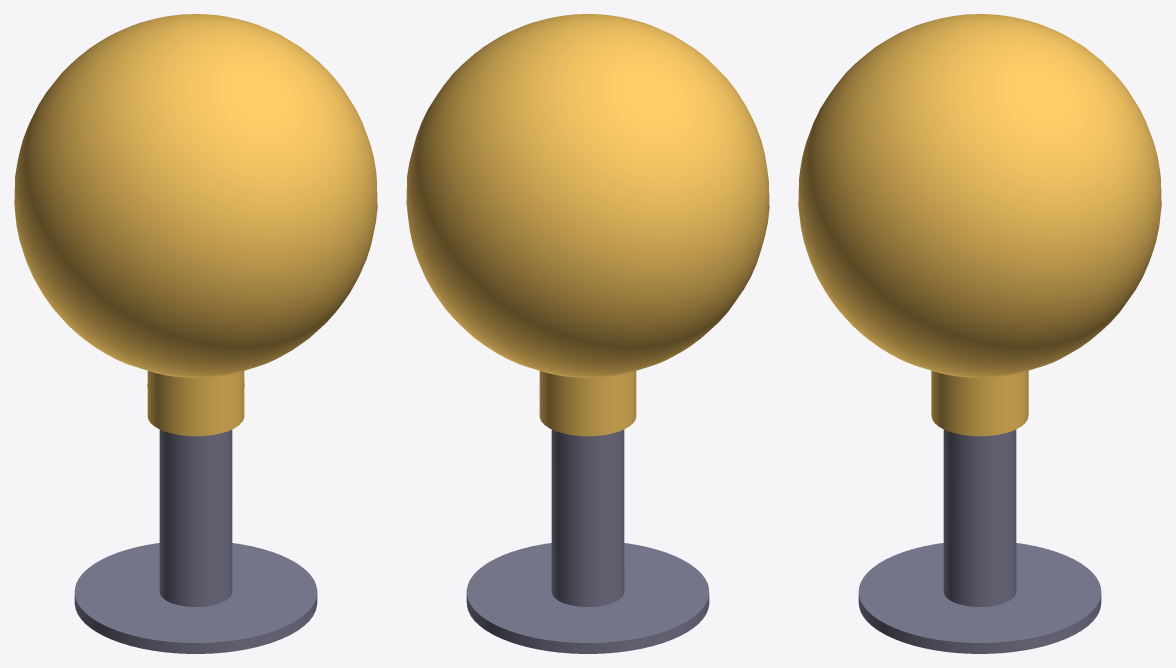
The model's file is aquavision_balloon.dae.
The picture shows the model from 3 angles, left to right: view 1: azimuth 30°, elevation 25°; view 2: azimuth 150°, elevation 25°; view 3: azimuth 270°, elevation 25°; orthographic projection.
Visible parts, largest first — view 1: Body1.001, Body1; view 2: Body1.001, Body1; view 3: Body1.001, Body1.
Part boxes in pixels (x1,y1,x2,y2): Body1.001: [14, 14, 377, 436]; Body1: [74, 429, 317, 653]; Body1.001: [406, 14, 769, 436]; Body1: [466, 429, 709, 653]; Body1.001: [798, 14, 1161, 436]; Body1: [858, 429, 1101, 653].
Size of the model in its own units: 0.4497 by 0.4492 by 0.78.
